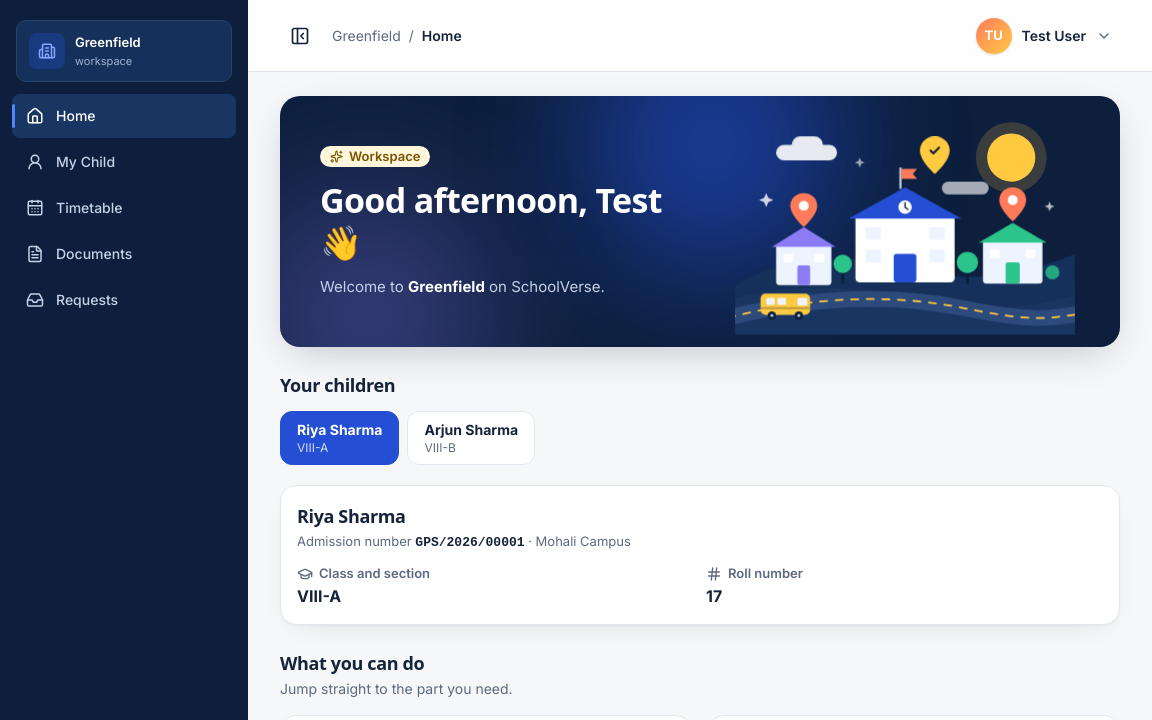
Parent portal (Module 4, Part 4) › Home has a hero greeting and quick links like the other portals; the switcher shows both children and switching changes the card
Expected: the heading "Good afternoon, Test 👋" is shown, [320,179,706,264]
Expected: the heading "Riya Sharma" is shown, [297,504,406,528]
What coordinates should you click on to do the following:
click the tab "Arjun Sharma VIII-B"
I would click on:
 (471, 438)
Its box is [408,411,535,465].
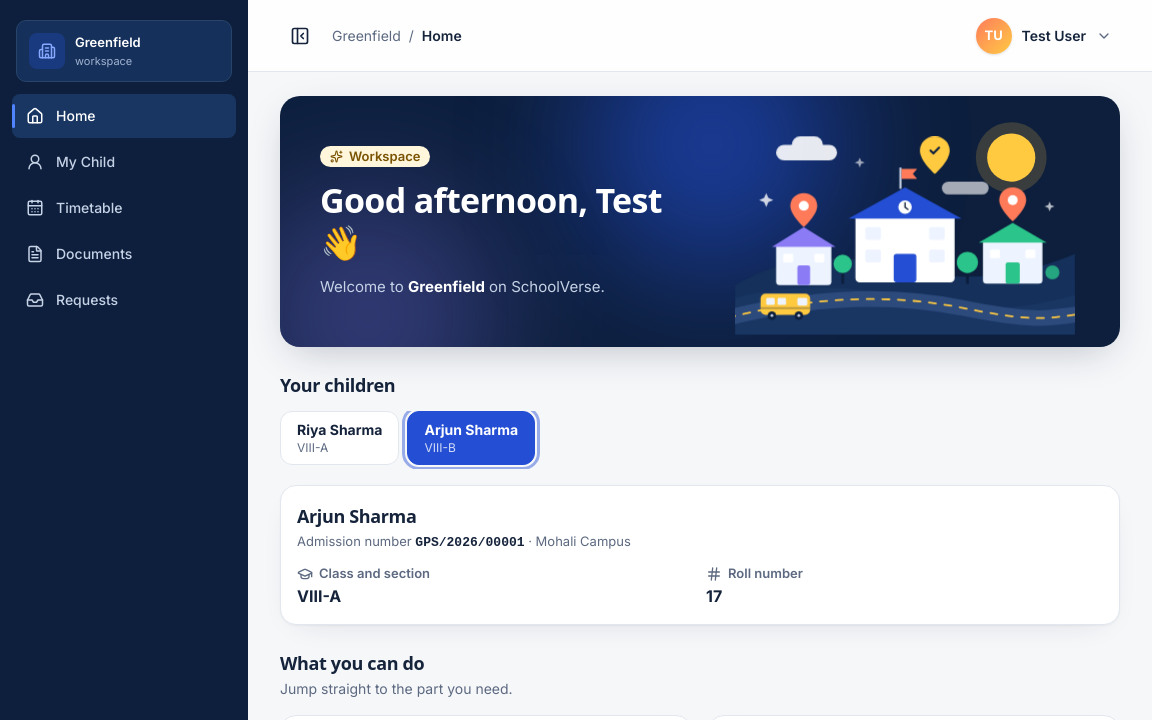
Expected: the heading "Arjun Sharma" is shown, [297,504,416,528]
